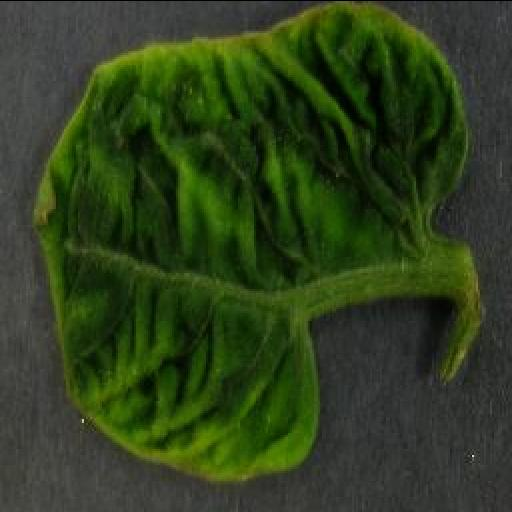disease_tomato: (30, 0, 474, 484)
